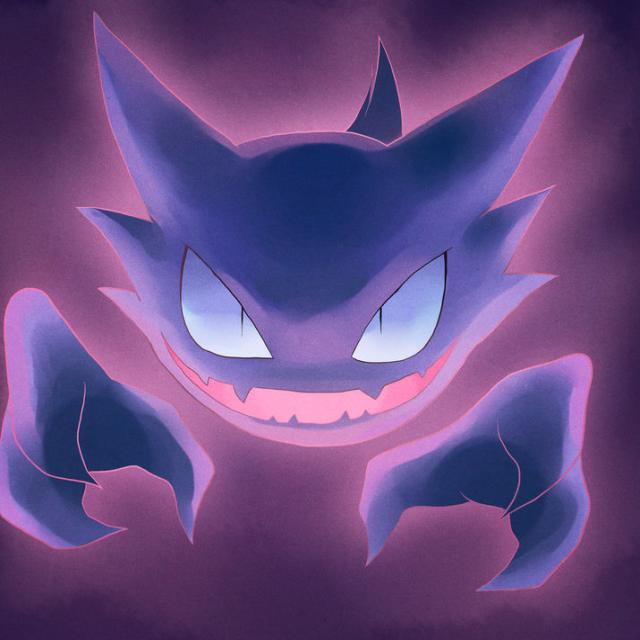Haunter: (5, 11, 604, 602)
